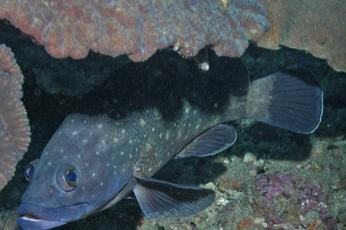Serranidae -Groupers-: (13, 38, 324, 230)
